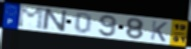0: (74, 12, 94, 35)
8: (124, 17, 146, 41)
9: (98, 14, 118, 38)
K: (149, 20, 169, 43)
M: (16, 6, 46, 31)
N: (42, 8, 69, 33)
